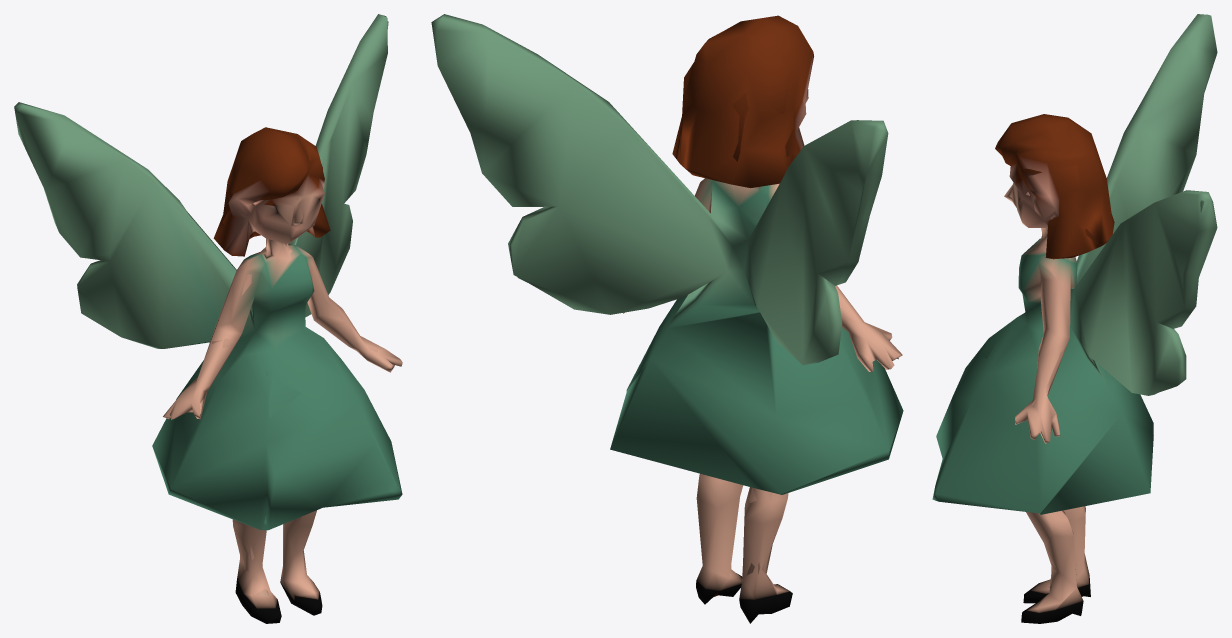
Rendered from gen3d-fairy-lod1.glb.
3 renders of one model, left to right at view 1: azimuth 30°, elevation 25°; view 2: azimuth 150°, elevation 25°; view 3: azimuth 270°, elevation 25°, orthographic. The views are drawn at different scales.
Visible parts, largest first — view 1: part_0; view 2: part_0; view 3: part_0.
Part boxes in pixels (x1,y1,x2,y2): part_0: [14, 14, 402, 623]; part_0: [431, 14, 903, 623]; part_0: [932, 14, 1217, 623].
Size of the model in its own units: 0.785 by 0.9988 by 0.5089.
